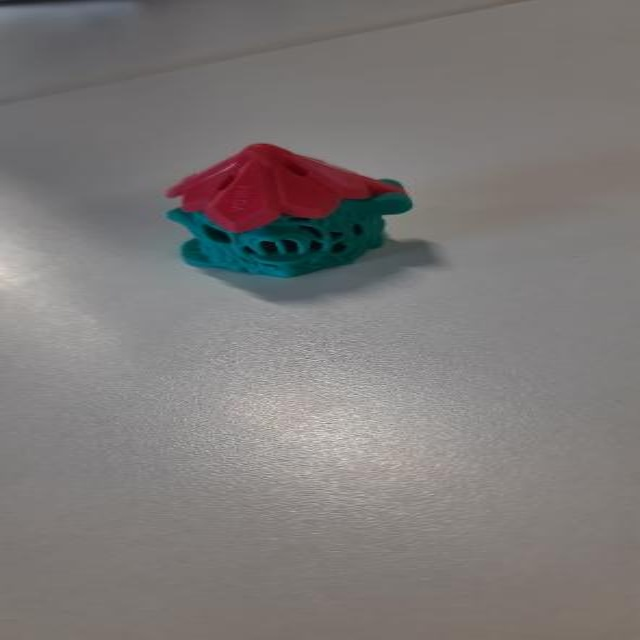House: (156, 133, 464, 309)
